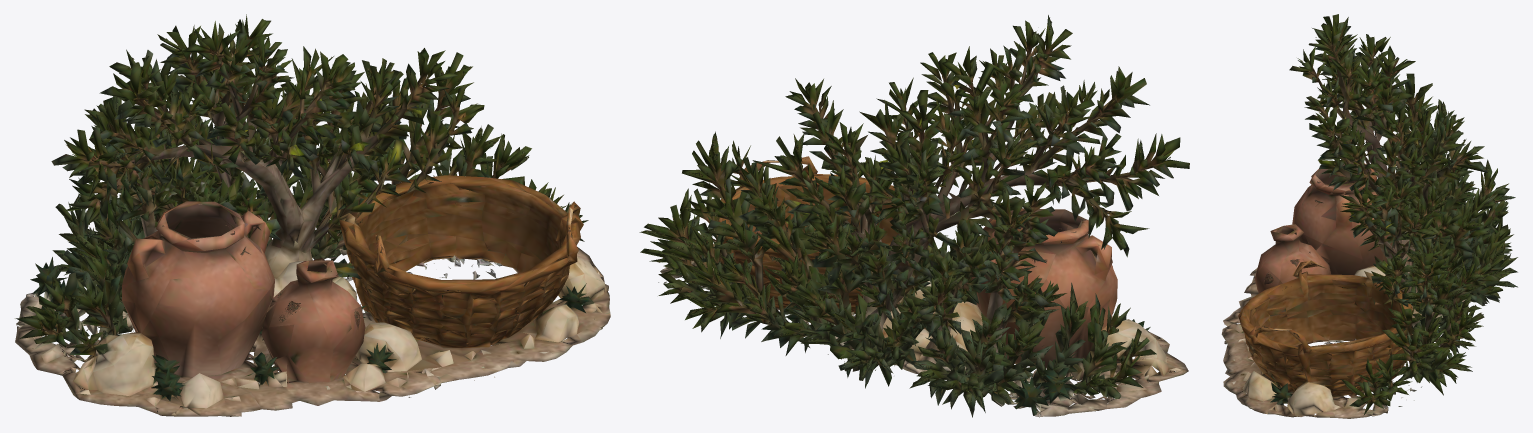
File: olive-basket-cluster-b-cutout-pixal3d-runtime.glb
3 views of the same model, side by side, from view 1: azimuth 30°, elevation 25°; view 2: azimuth 150°, elevation 25°; view 3: azimuth 270°, elevation 25° (orthographic). The views are drawn at different scales.
Visible parts, largest first — view 1: geometry_0; view 2: geometry_0; view 3: geometry_0.
Part boxes in pixels (left/top/right/bottom): geometry_0: left=14, top=14, right=610, bottom=416; geometry_0: left=639, top=15, right=1189, bottom=417; geometry_0: left=1221, top=14, right=1517, bottom=418.
Bounding box in the file's own units: 1.88 × 1.15 × 1.18.
1 material, 1 textured.
